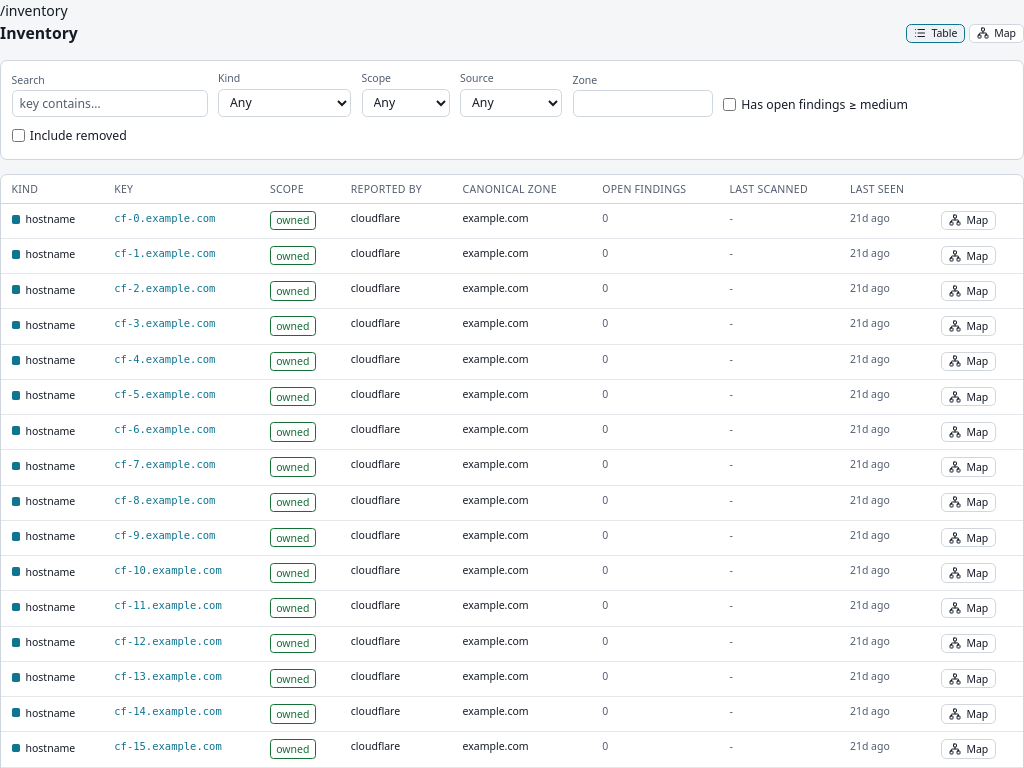
shared asset provenance › offers an overlapping-only source before its asset is on the current page and filters to one identity
The width and height of the screenshot is (1024, 768).
Expected: the link "cf-0.example.com" is shown, [114,212,215,224]
Expected: the link "203.0.113.10" is not shown
Select "aws" in the dropdown labelled "Source" at (511, 102), box [460,88,562,116]
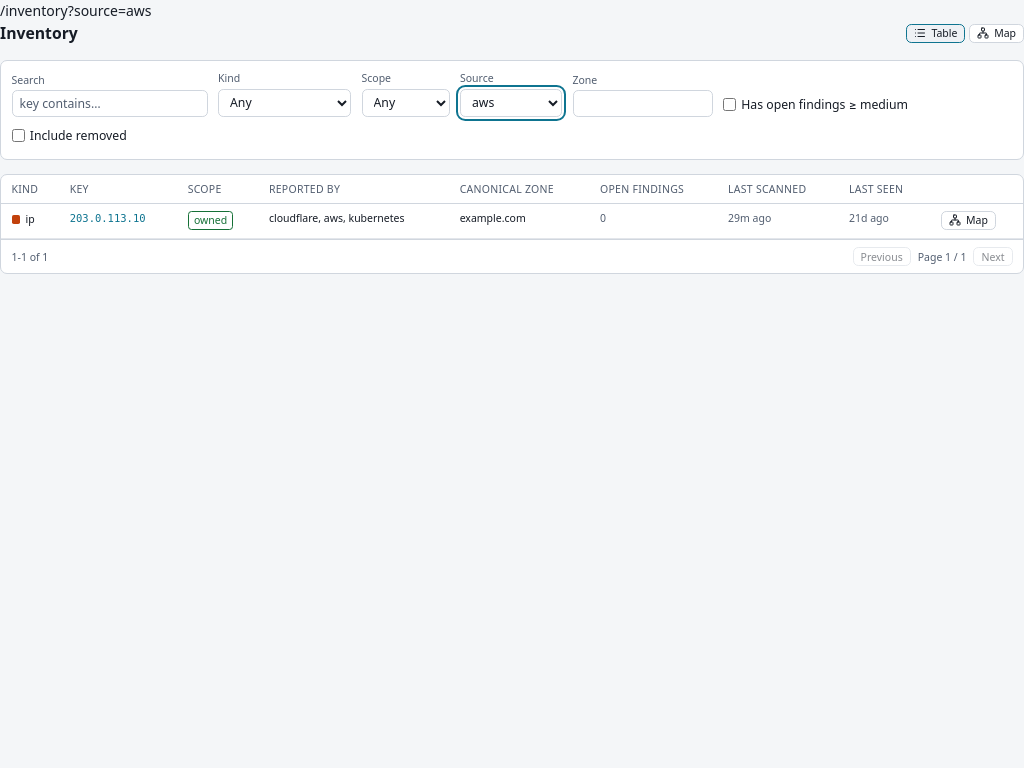
Expected: the text with test id "location" shows "source=aws", [0,1,152,20]
Expected: the number of links "203.0.113.10" is 1, [70,212,146,224]
Expected: the text "1-1 of 1" is shown, [12,250,48,264]
